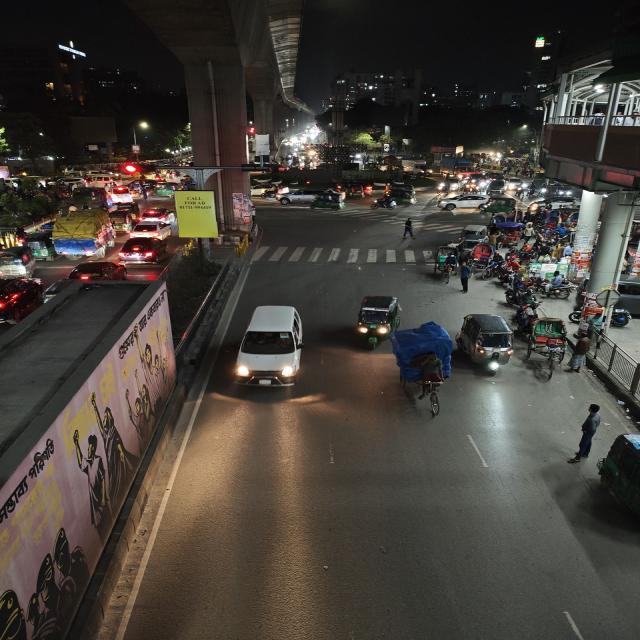car: (232, 301, 311, 393), (0, 275, 45, 324), (66, 258, 130, 284), (116, 236, 169, 266), (436, 192, 491, 212), (124, 221, 172, 238), (136, 206, 174, 224), (272, 187, 308, 206), (109, 188, 134, 202)
cng: (594, 431, 639, 531), (456, 311, 517, 377), (353, 294, 403, 348), (0, 245, 35, 278), (309, 190, 346, 211), (28, 232, 55, 260), (480, 198, 514, 214)
motorcycle: (370, 195, 399, 211)
pedestrian: (566, 401, 606, 465), (567, 331, 595, 373), (456, 262, 474, 292), (399, 220, 416, 240)
pickup_van: (51, 211, 113, 259)
rickshaw: (387, 319, 454, 413), (526, 316, 574, 366), (433, 246, 460, 286)
truck: (438, 157, 479, 177)
